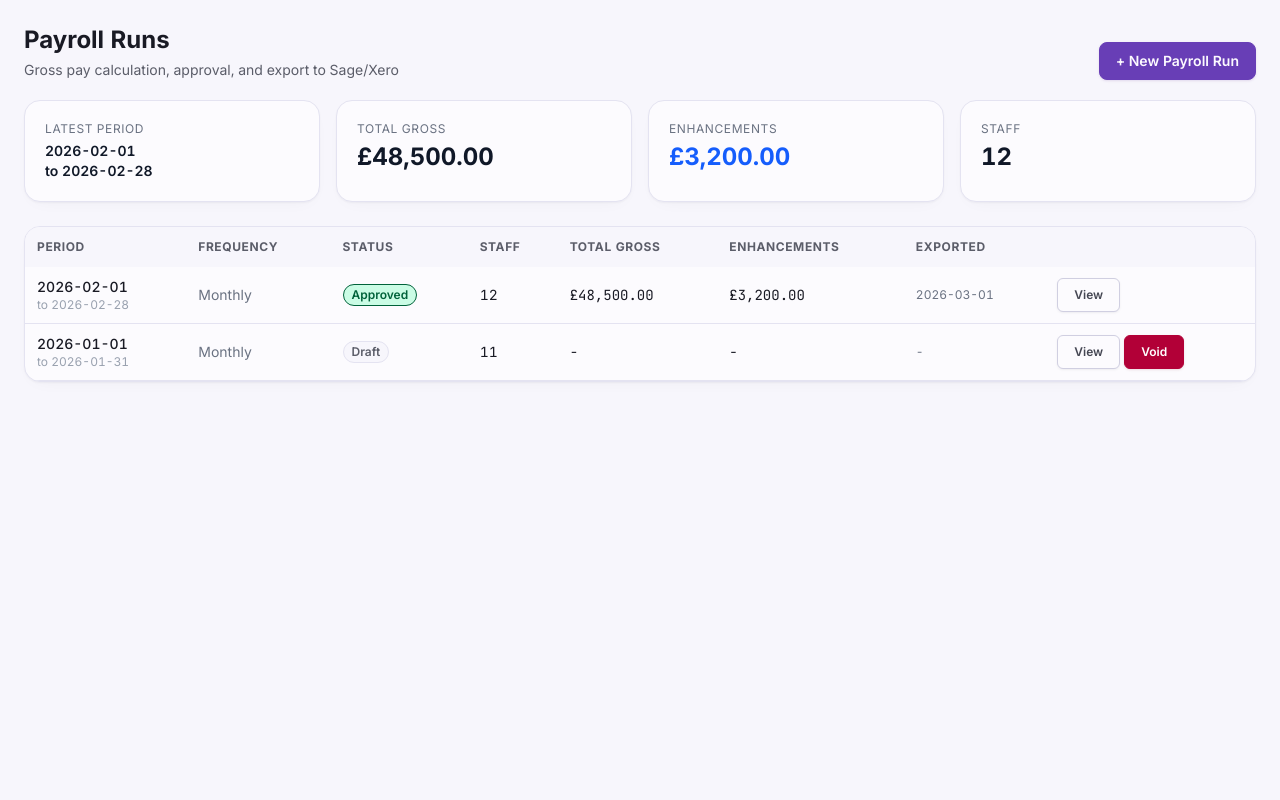
PayrollDashboard › keeps create failures inside the modal as form errors
Expected: the text "Approved" is shown, [342,284,417,306]
Click the button "+ New Payroll Run": {"x": 1177, "y": 61} [1099,42,1256,80]
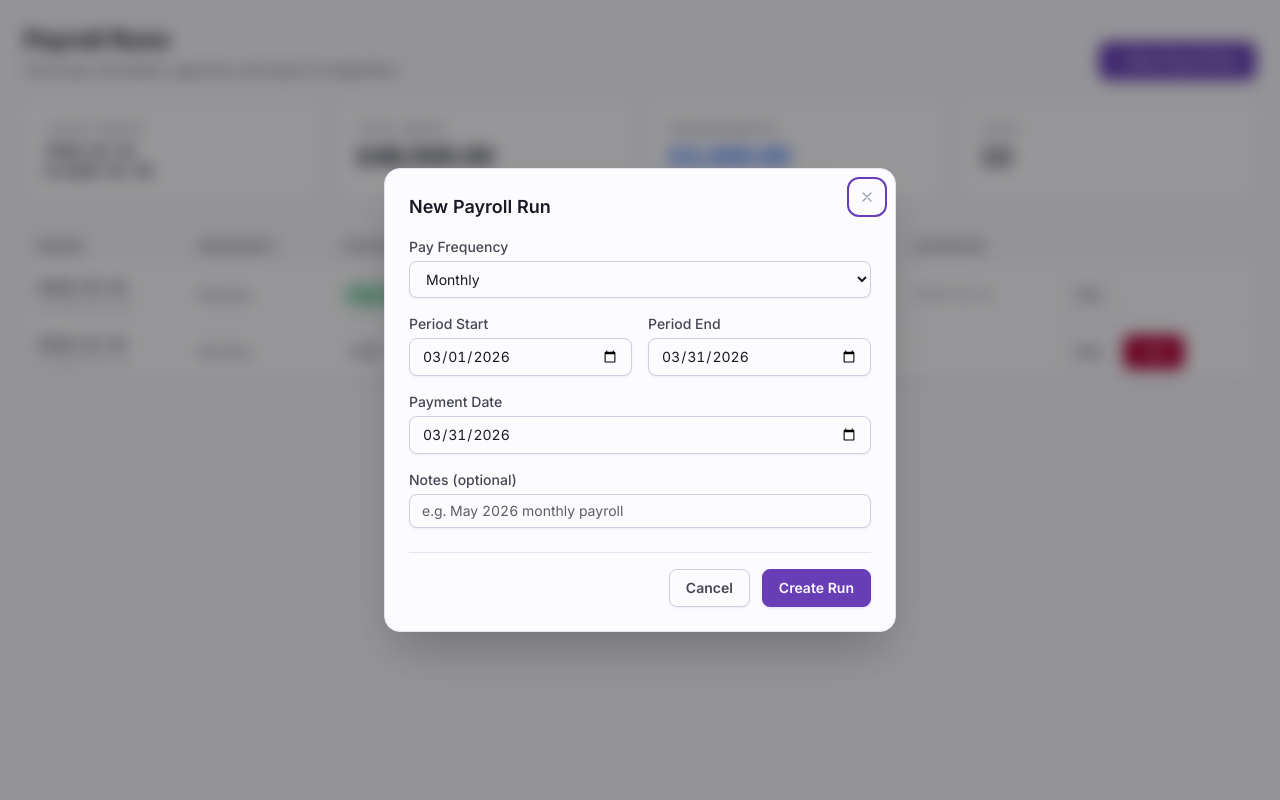
Click the button "Create Run": {"x": 816, "y": 588} [762,569,871,607]
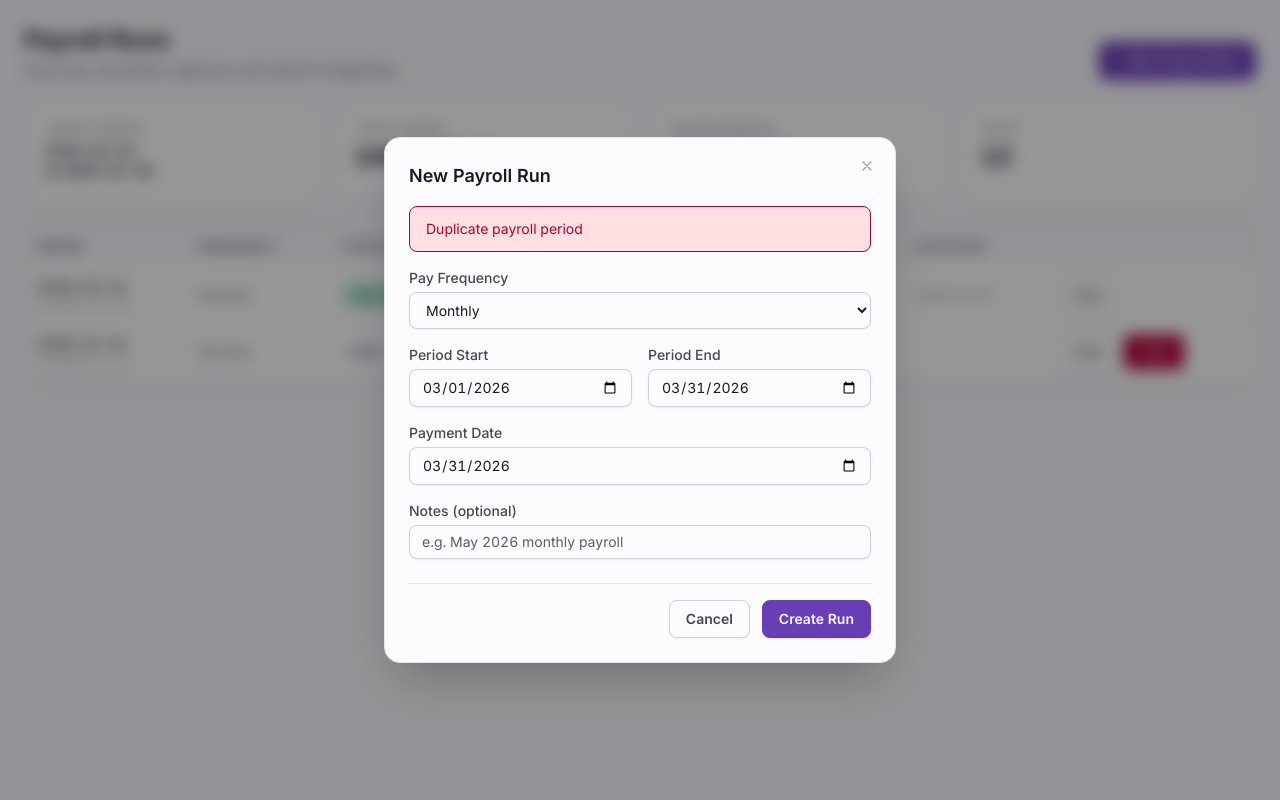
Result: the heading "New Payroll Run" is shown at [409,165,551,186]
Result: the text "Duplicate payroll period" is shown at [426,219,583,239]
